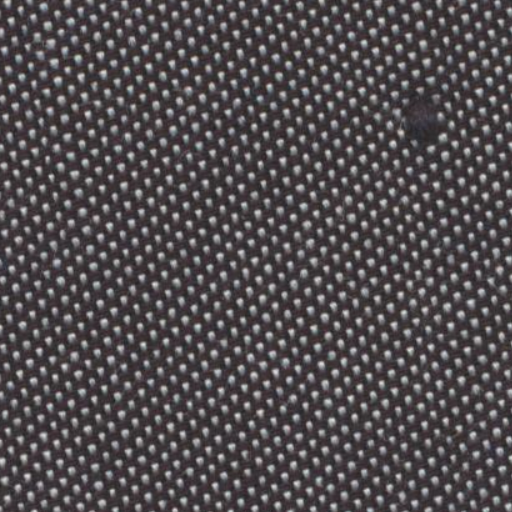MianQiu: (394, 78, 457, 156)
